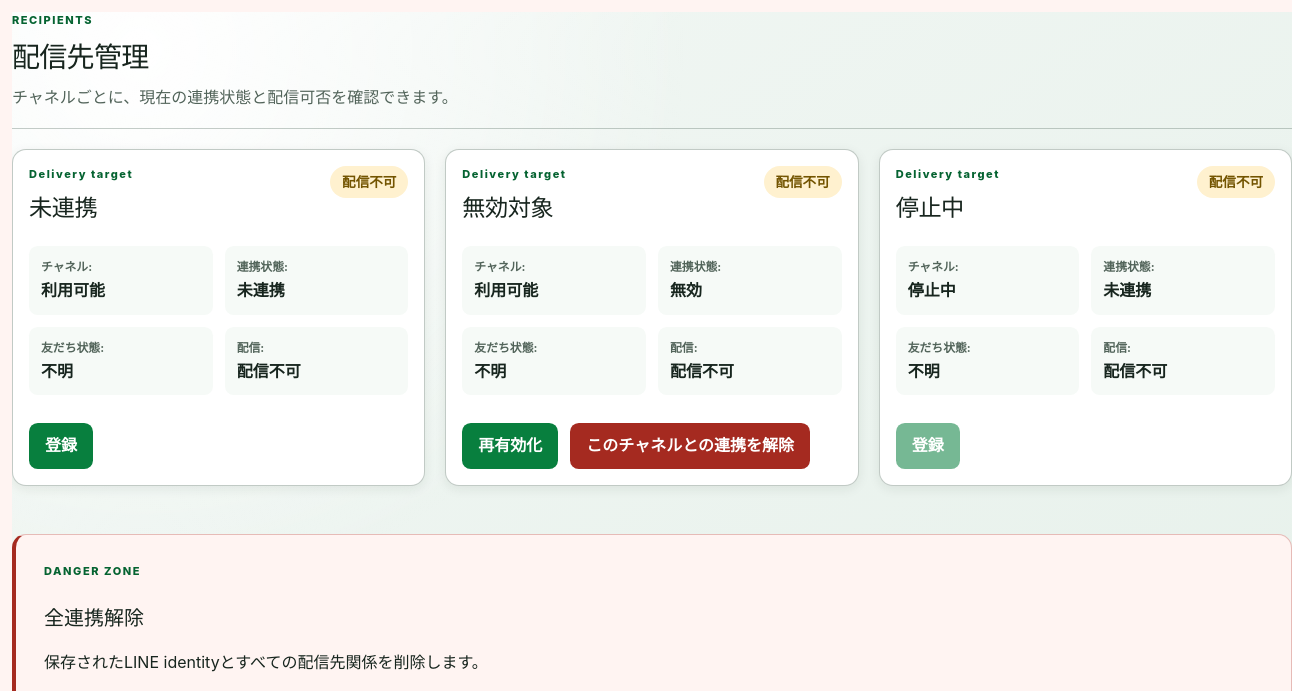
Test: AccountConsole › updates registration enable and target unlink states without leaking identifiers
Expected: the 2nd button "登録" is disabled, [896,423,960,469]
Click the 1st button "登録" at (61, 446), box [29,423,93,469]
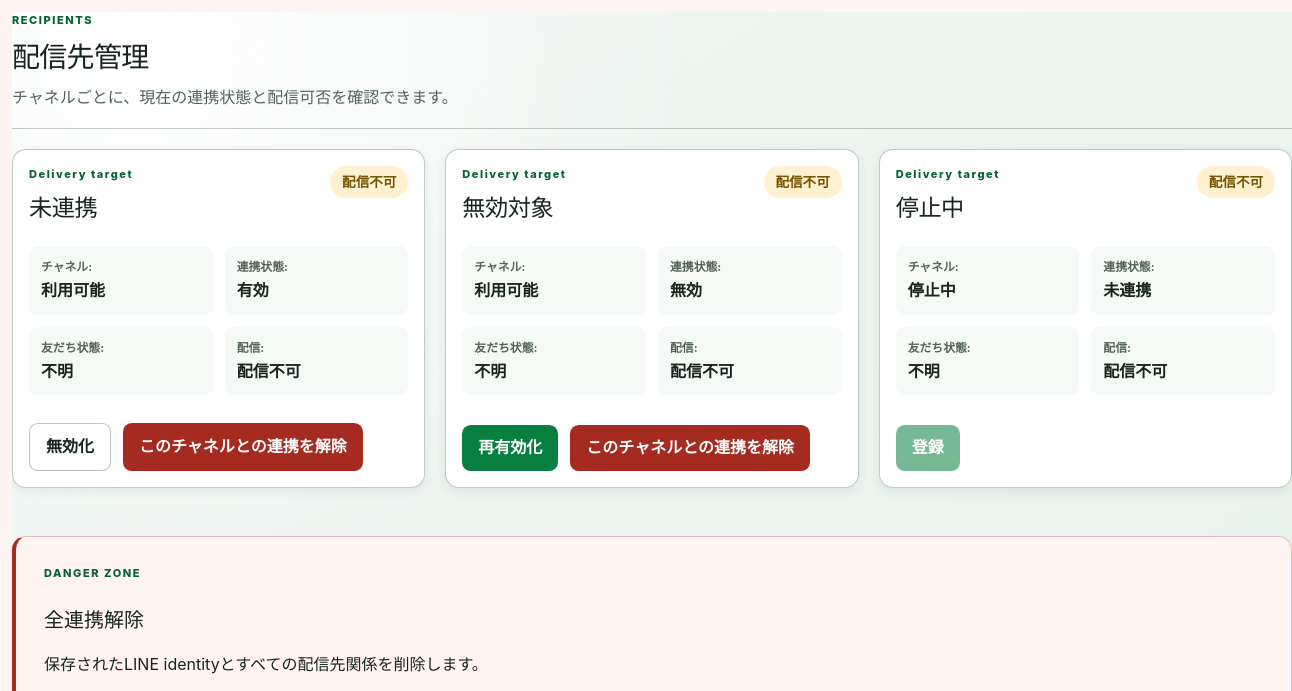
Click the button "再有効化" at (510, 448), box [462,425,558,471]
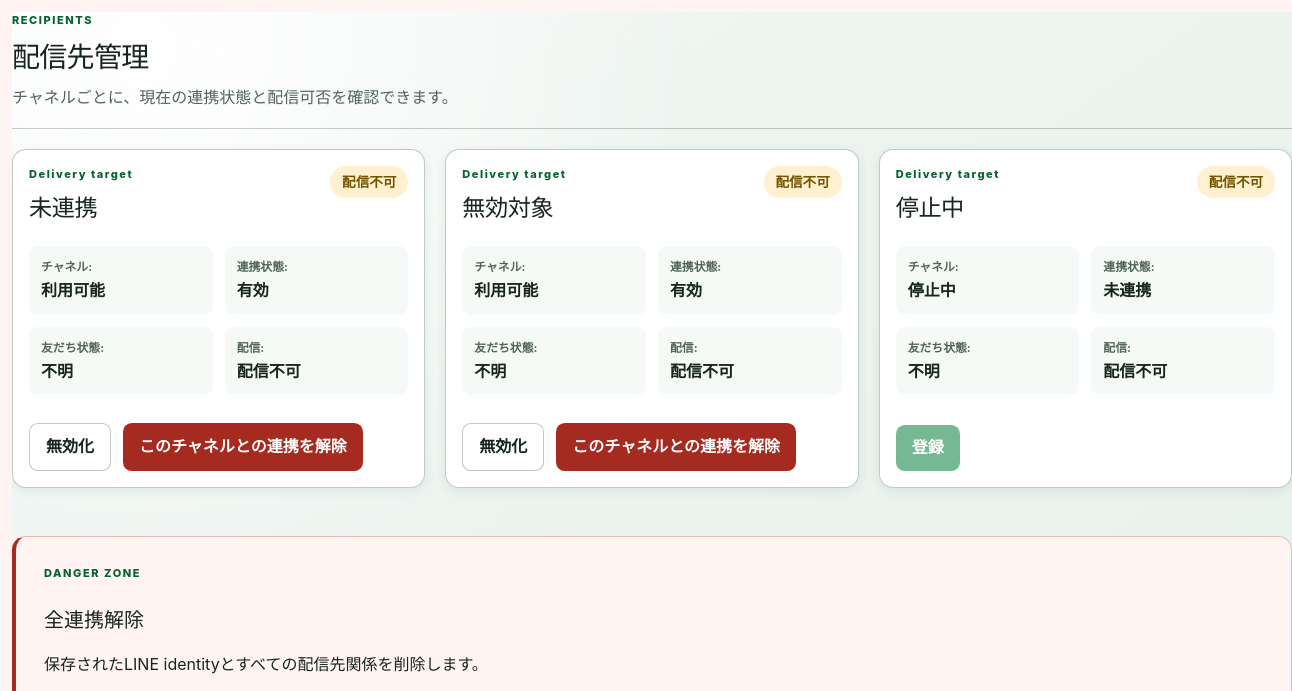
Click the button "このチャネルとの連携を解除" below "無効対象" at (676, 447), box [556,423,796,471]
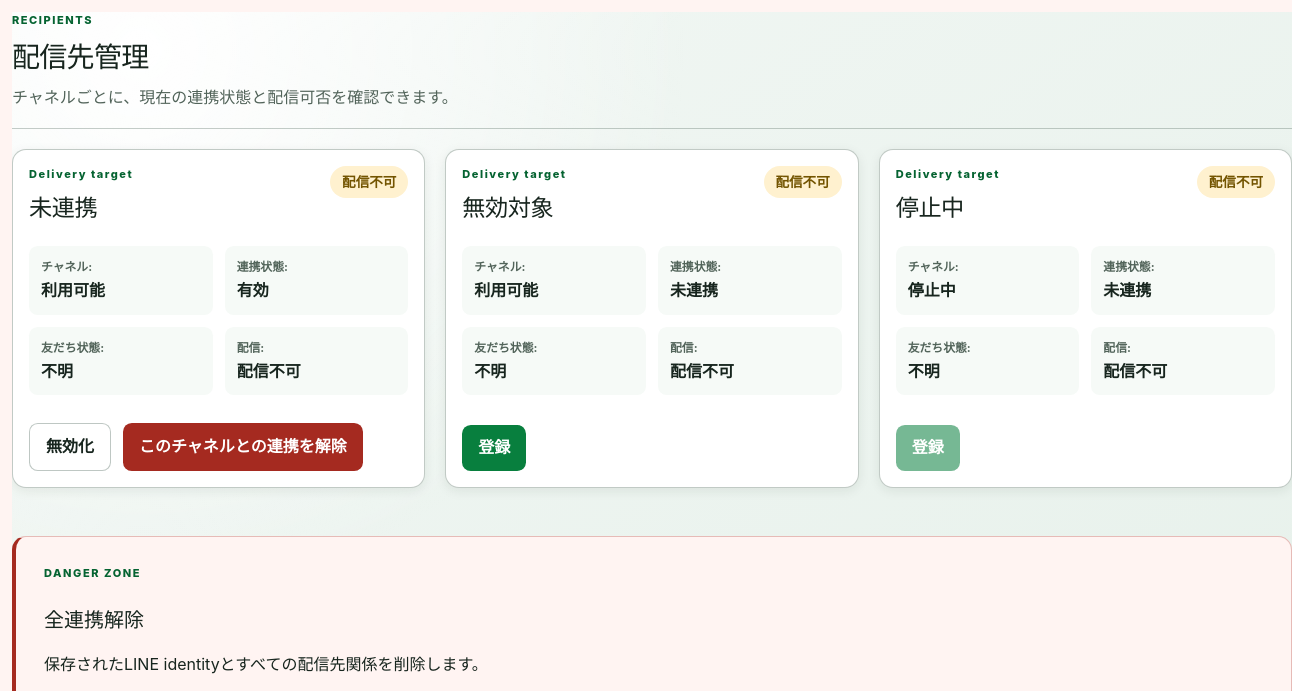
Expected: the list item with class "channel-card" shows "未連携", [670,280,718,300]
